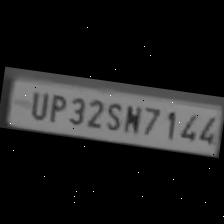1: (158, 105, 178, 139)
2: (82, 94, 106, 129)
3: (64, 92, 88, 125)
4: (176, 107, 200, 142), (196, 110, 218, 144)
7: (140, 102, 164, 137)
N: (119, 100, 144, 134)
P: (44, 89, 68, 123)
S: (102, 98, 125, 132)
U: (24, 86, 49, 120)
